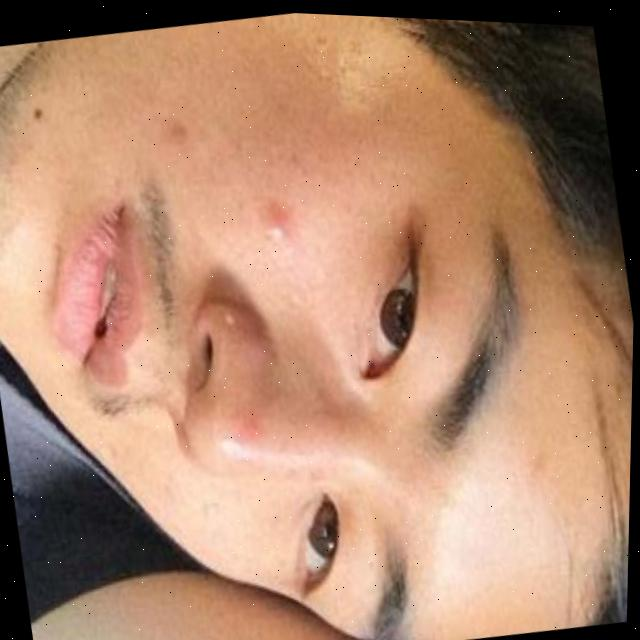Acne: (255, 198, 303, 267)
